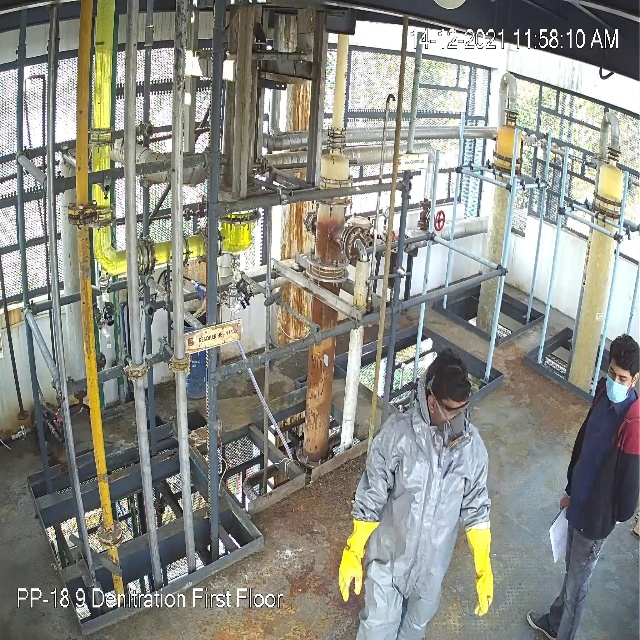Mascara: (439, 411, 474, 454)
Sin_gafas: (605, 361, 629, 386)
